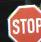Stop sign: (0, 0, 40, 41)
